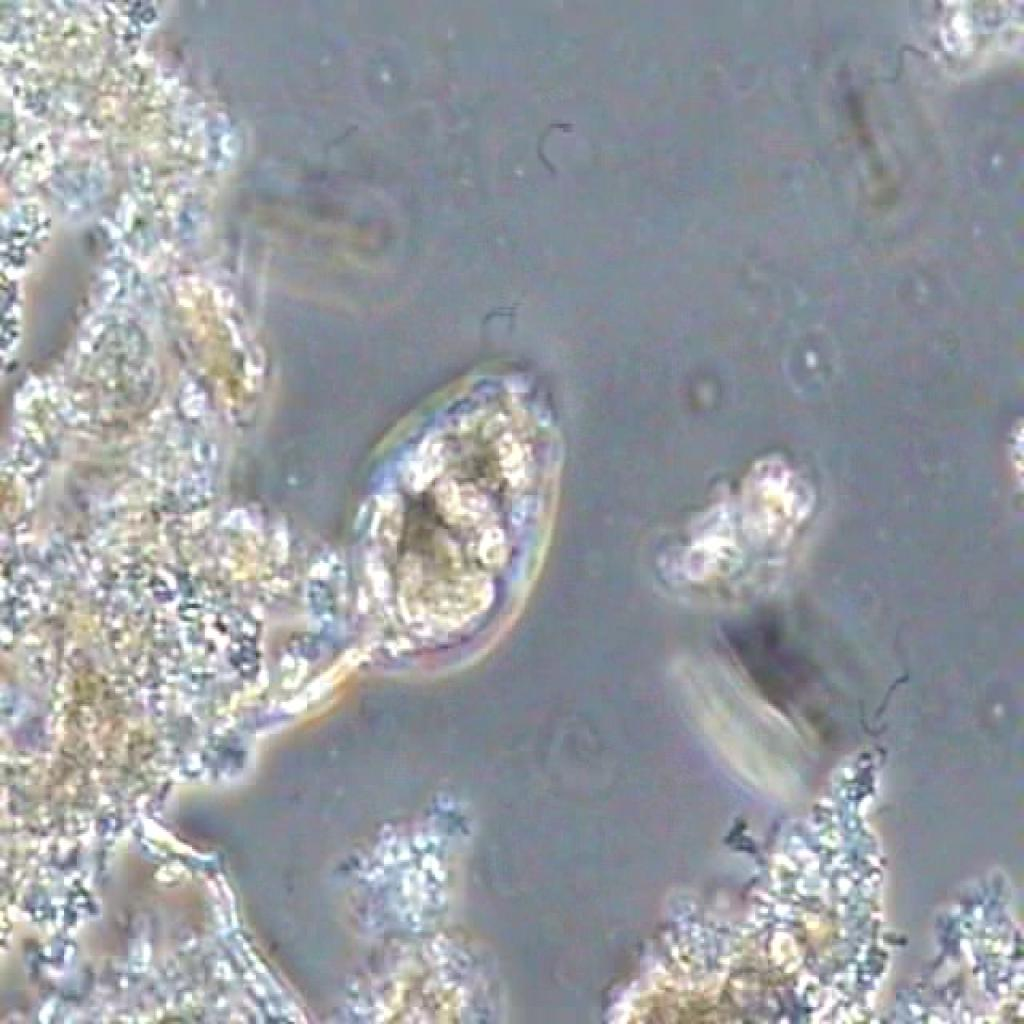Rotatoria: (298, 353, 576, 731)
